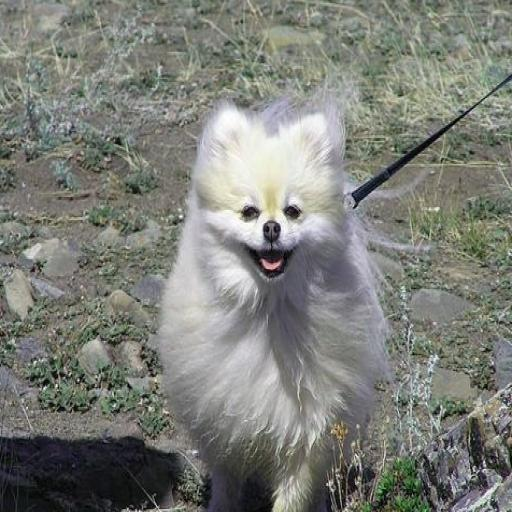dog_face: (193, 100, 344, 290)
